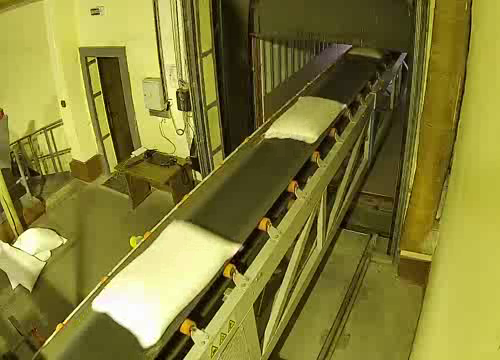bag: (81, 218, 253, 351), (260, 87, 352, 144), (343, 44, 391, 62)
